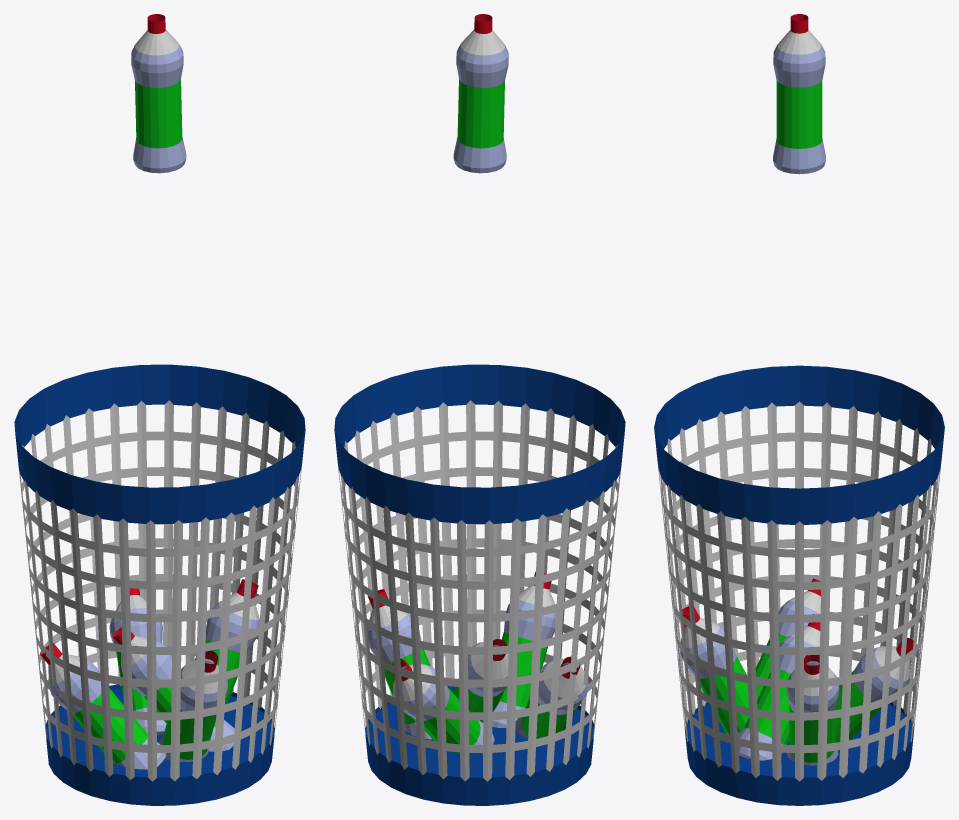
The model's file is DustbinWithCan_000002.obj.
The picture shows the model from 3 angles, left to right: view 1: azimuth 30°, elevation 25°; view 2: azimuth 150°, elevation 25°; view 3: azimuth 270°, elevation 25°; orthographic projection.
Parts seen in each view (by area): view 1: Cylinder, Plane.006, Plane.005, Plane.001, Plane.004, Plane.003, Plane.002; view 2: Cylinder, Plane.006, Plane.001, Plane.002, Plane.005, Plane.003, Plane.004; view 3: Cylinder, Plane.006, Plane.001, Plane.004, Plane.003, Plane.002, Plane.005.
Boxes of the visible parts, x1,y1,x2,y2 form: Cylinder: (14, 364, 305, 805); Plane.006: (131, 14, 186, 173); Plane.005: (40, 643, 166, 769); Plane.001: (158, 650, 227, 762); Plane.004: (112, 627, 234, 751); Plane.003: (195, 579, 259, 704); Plane.002: (109, 588, 166, 734); Cylinder: (334, 364, 625, 805); Plane.006: (453, 14, 508, 173); Plane.001: (482, 571, 555, 727); Plane.002: (391, 659, 494, 752); Plane.005: (515, 656, 588, 738); Plane.003: (367, 589, 431, 739); Plane.004: (452, 639, 508, 721); Cylinder: (654, 365, 944, 805); Plane.006: (773, 14, 825, 174); Plane.001: (680, 606, 758, 736); Plane.004: (738, 614, 820, 760); Plane.003: (786, 654, 839, 765); Plane.002: (835, 637, 917, 742); Plane.005: (755, 578, 820, 696).
Size of the model in its own units: 2.6 by 7.3 by 2.6.
